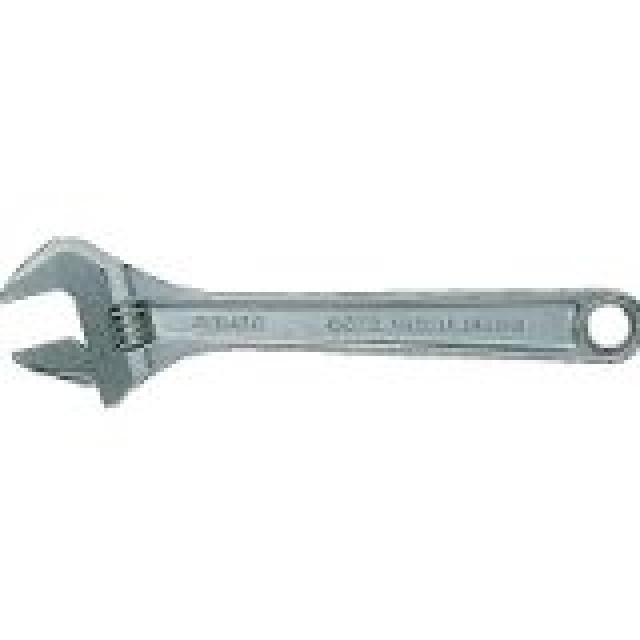wrench: (0, 222, 640, 417)
